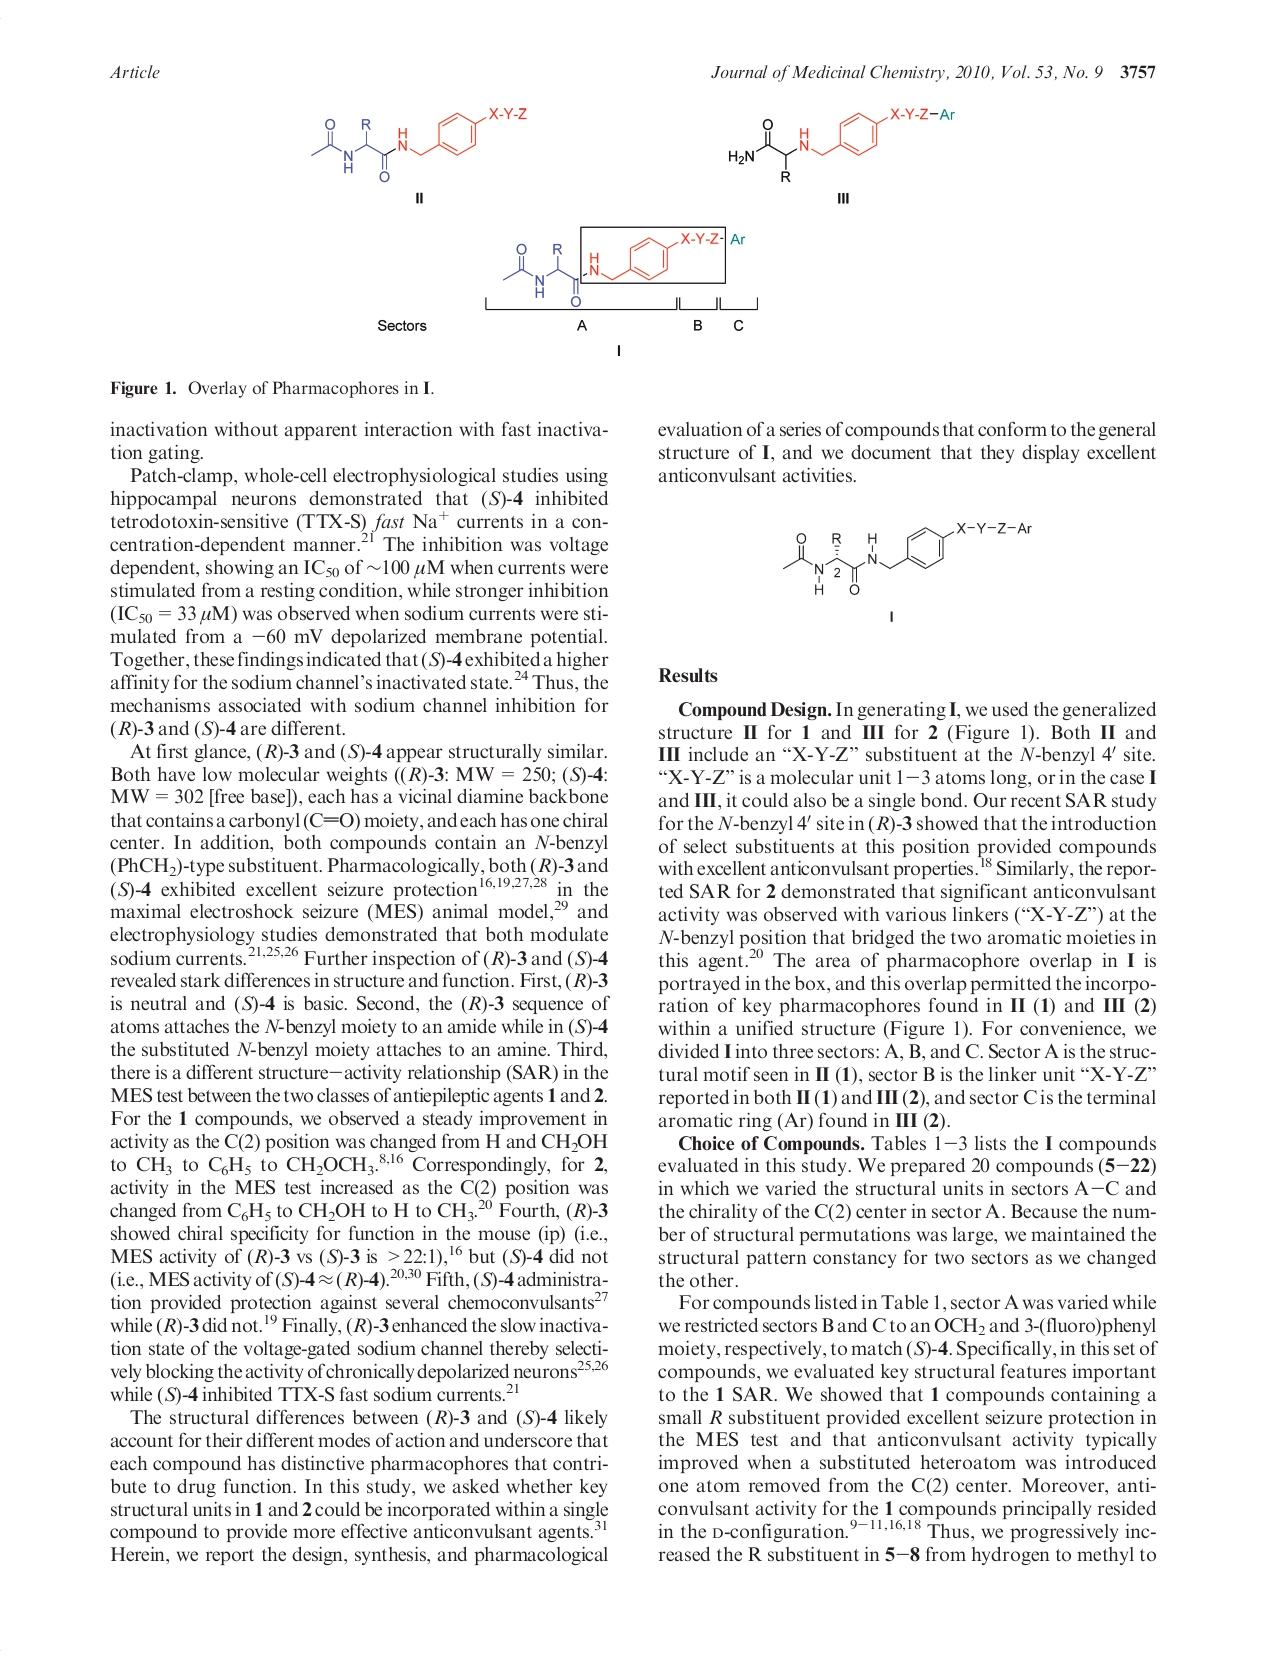exist_molecular: (718, 94, 965, 193), (775, 512, 1043, 600), (309, 98, 540, 186), (497, 223, 747, 305)
